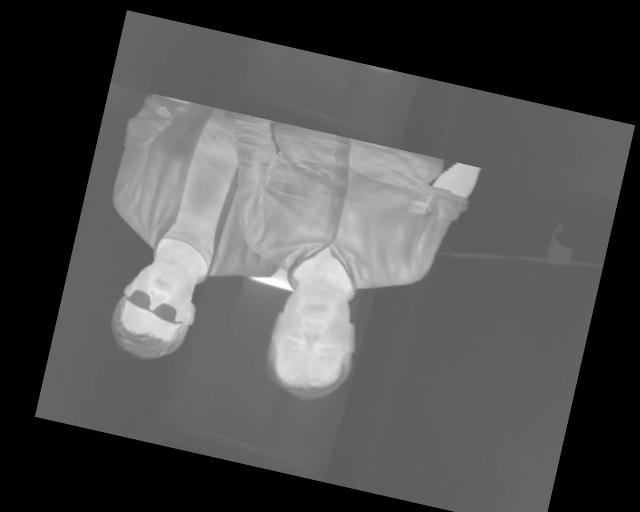face: (257, 271, 370, 409), (104, 251, 206, 369)
